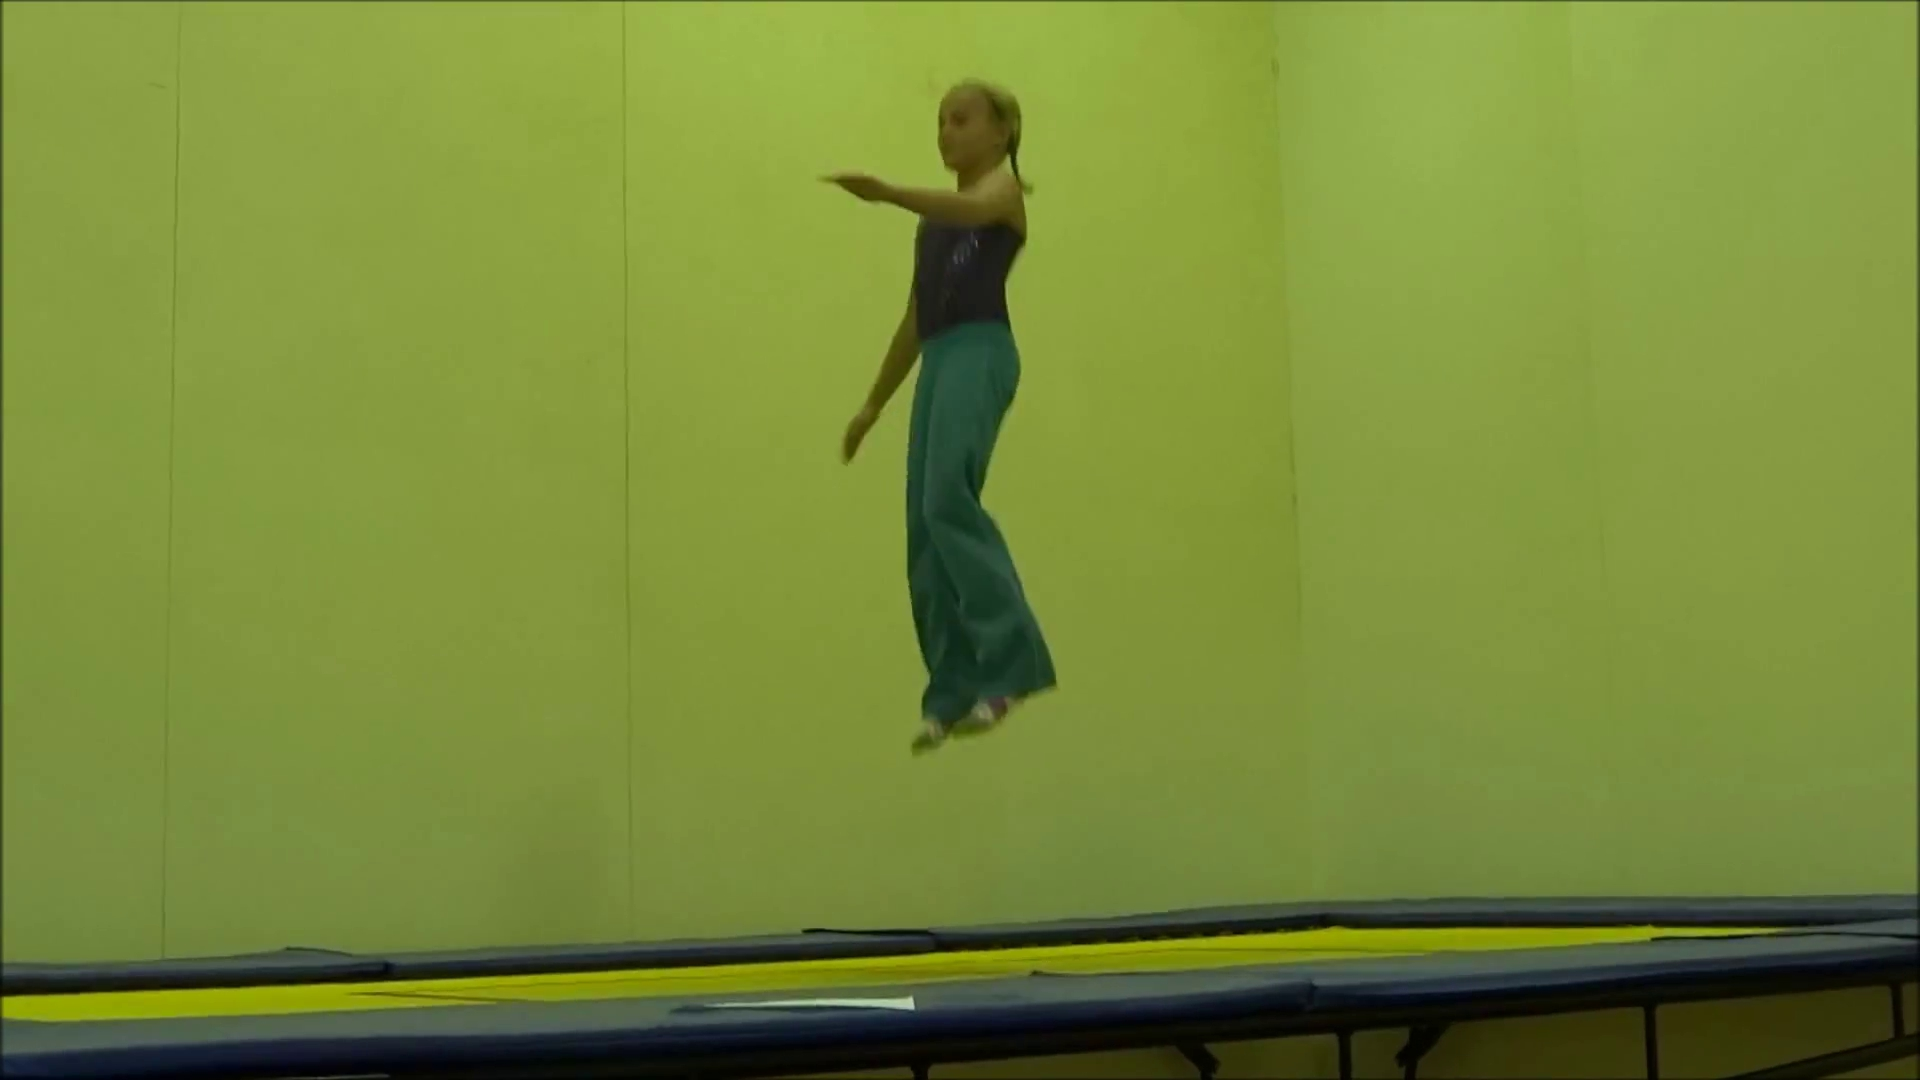person: (818, 81, 1058, 755)
